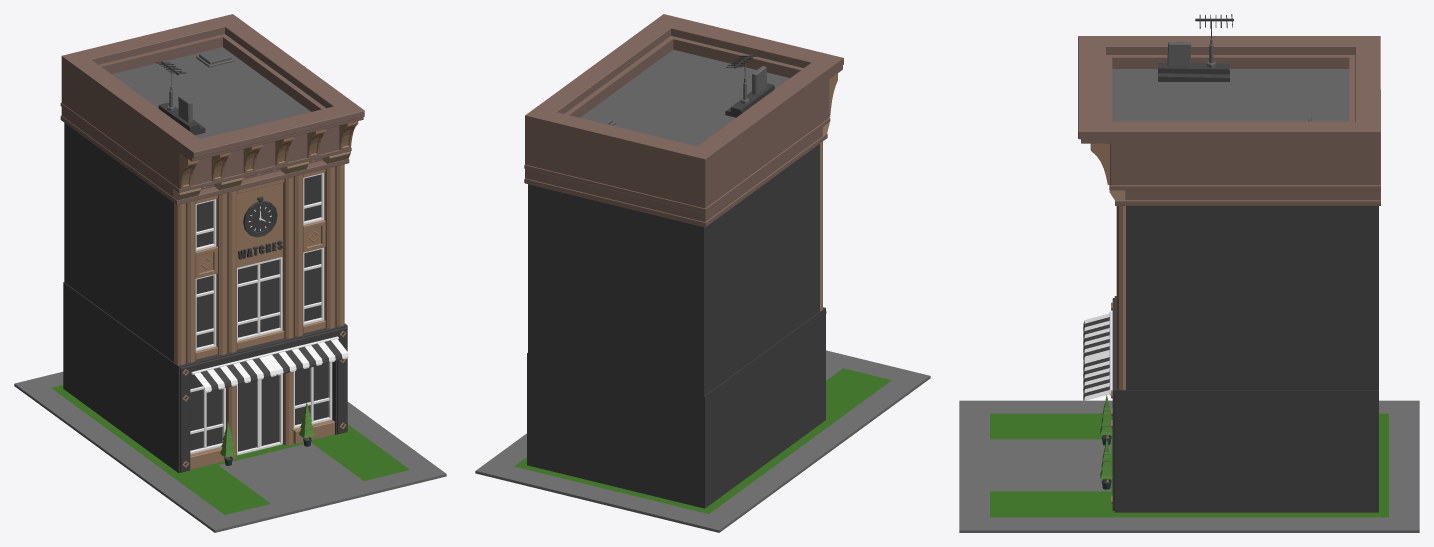
3 renders of one model, left to right at view 1: azimuth 30°, elevation 25°; view 2: azimuth 150°, elevation 25°; view 3: azimuth 270°, elevation 25°, orthographic. The views are drawn at different scales.
Parts seen in each view (by area): view 1: watches.001; view 2: watches.001; view 3: watches.001.
Boxes of the visible parts, <box> form: watches.001: <box>14,14,446,532</box>; watches.001: <box>475,14,930,532</box>; watches.001: <box>959,14,1419,532</box>.
Size of the model in its own units: 10 by 15.21 by 15.
1 material, 1 textured.
